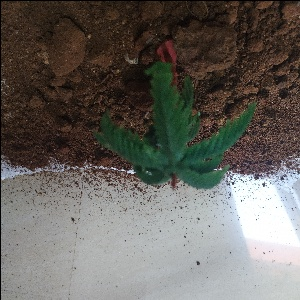plant: (95, 26, 255, 198)
